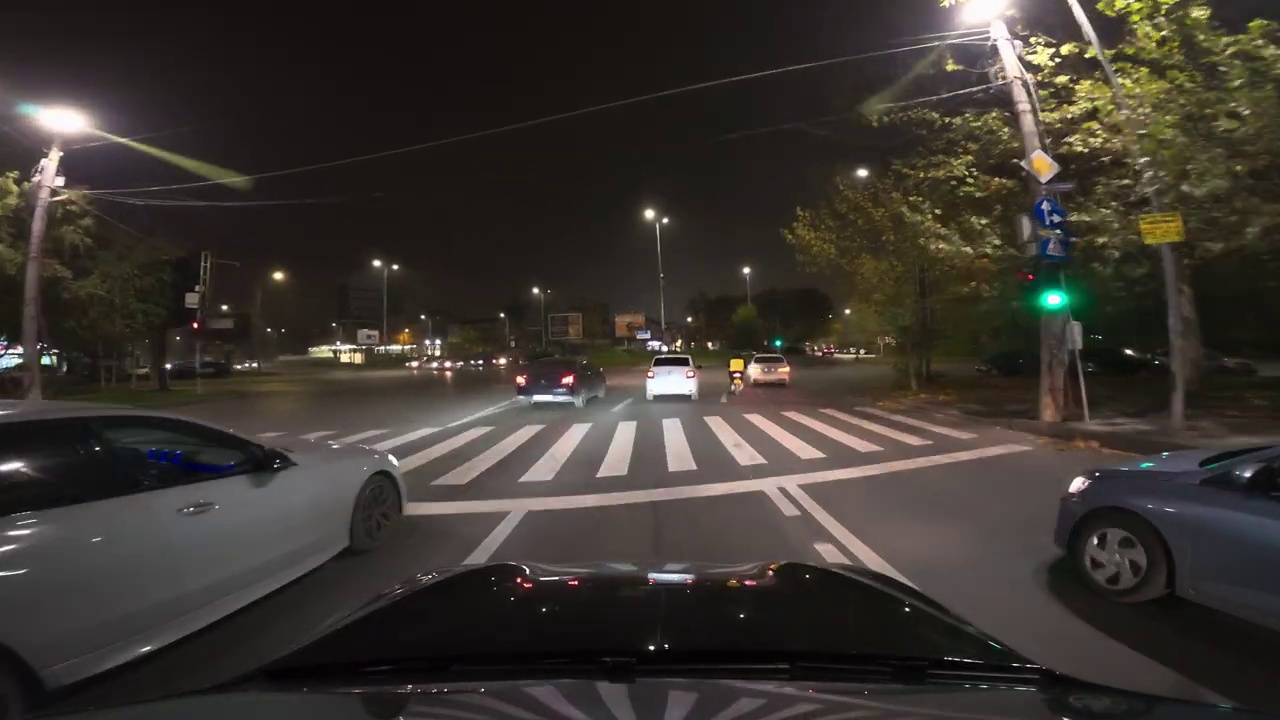acesa: (35, 107, 88, 135), (368, 255, 393, 277), (640, 204, 664, 226), (850, 165, 872, 185), (269, 267, 290, 287), (528, 283, 547, 301), (738, 263, 755, 283)
